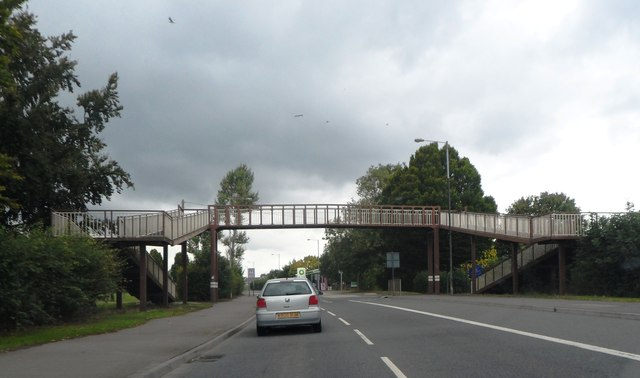bridge: (49, 202, 587, 246)
